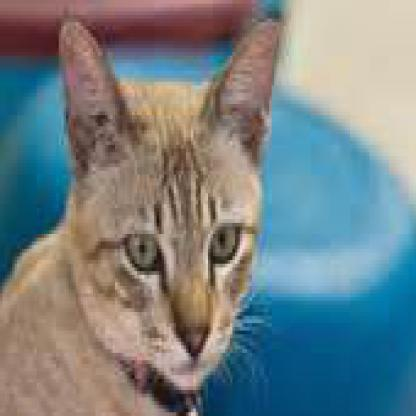cat: (2, 7, 286, 412)
